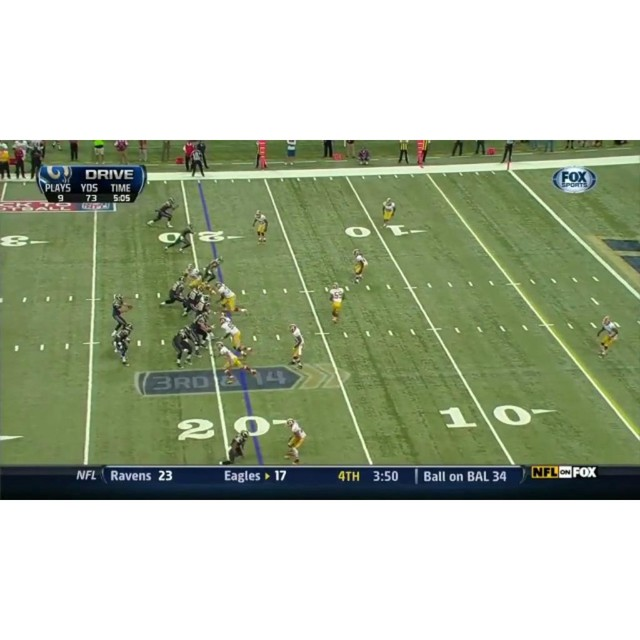american-football-player: (216, 342, 257, 384), (219, 313, 252, 358), (595, 316, 621, 359), (215, 281, 247, 315), (219, 430, 250, 465), (172, 324, 196, 369), (284, 418, 307, 463), (146, 197, 177, 228), (160, 276, 187, 311), (113, 323, 134, 366), (111, 294, 132, 336), (164, 224, 194, 253), (288, 323, 305, 368), (328, 282, 345, 324), (203, 256, 225, 286), (182, 286, 203, 317), (352, 249, 368, 283), (253, 210, 268, 244), (382, 197, 396, 227)
